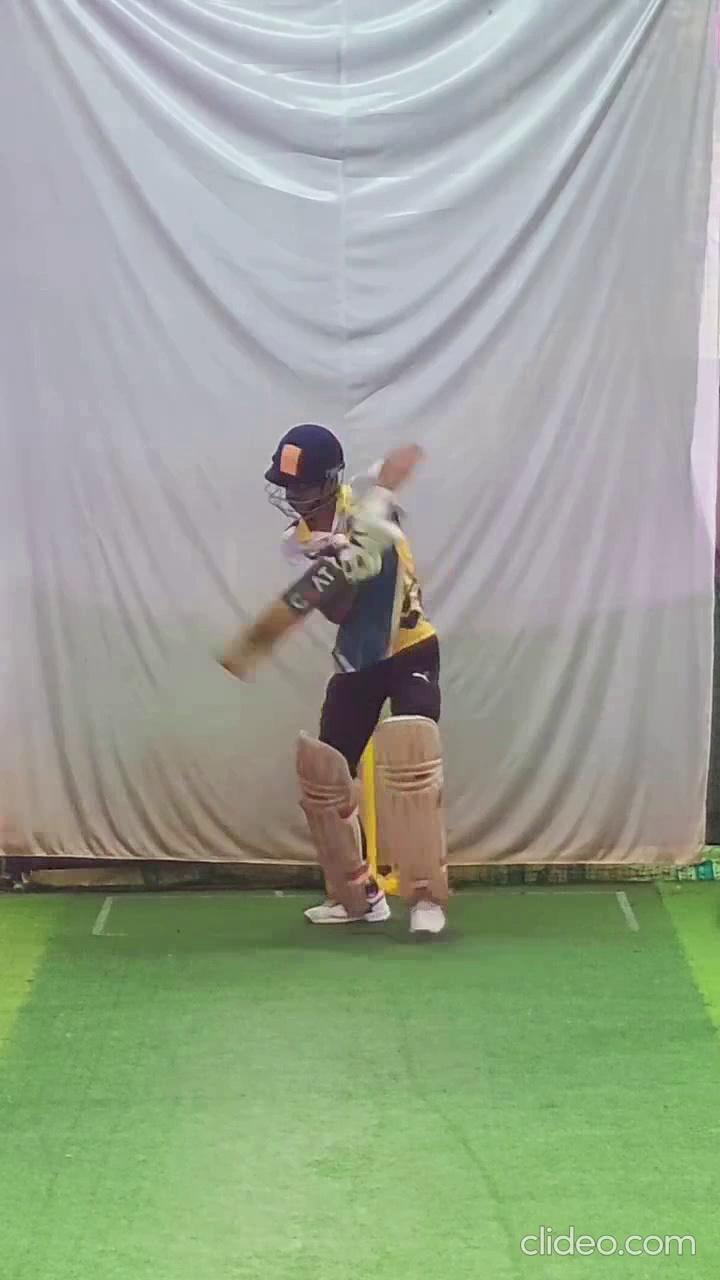bat: (213, 547, 352, 690)
